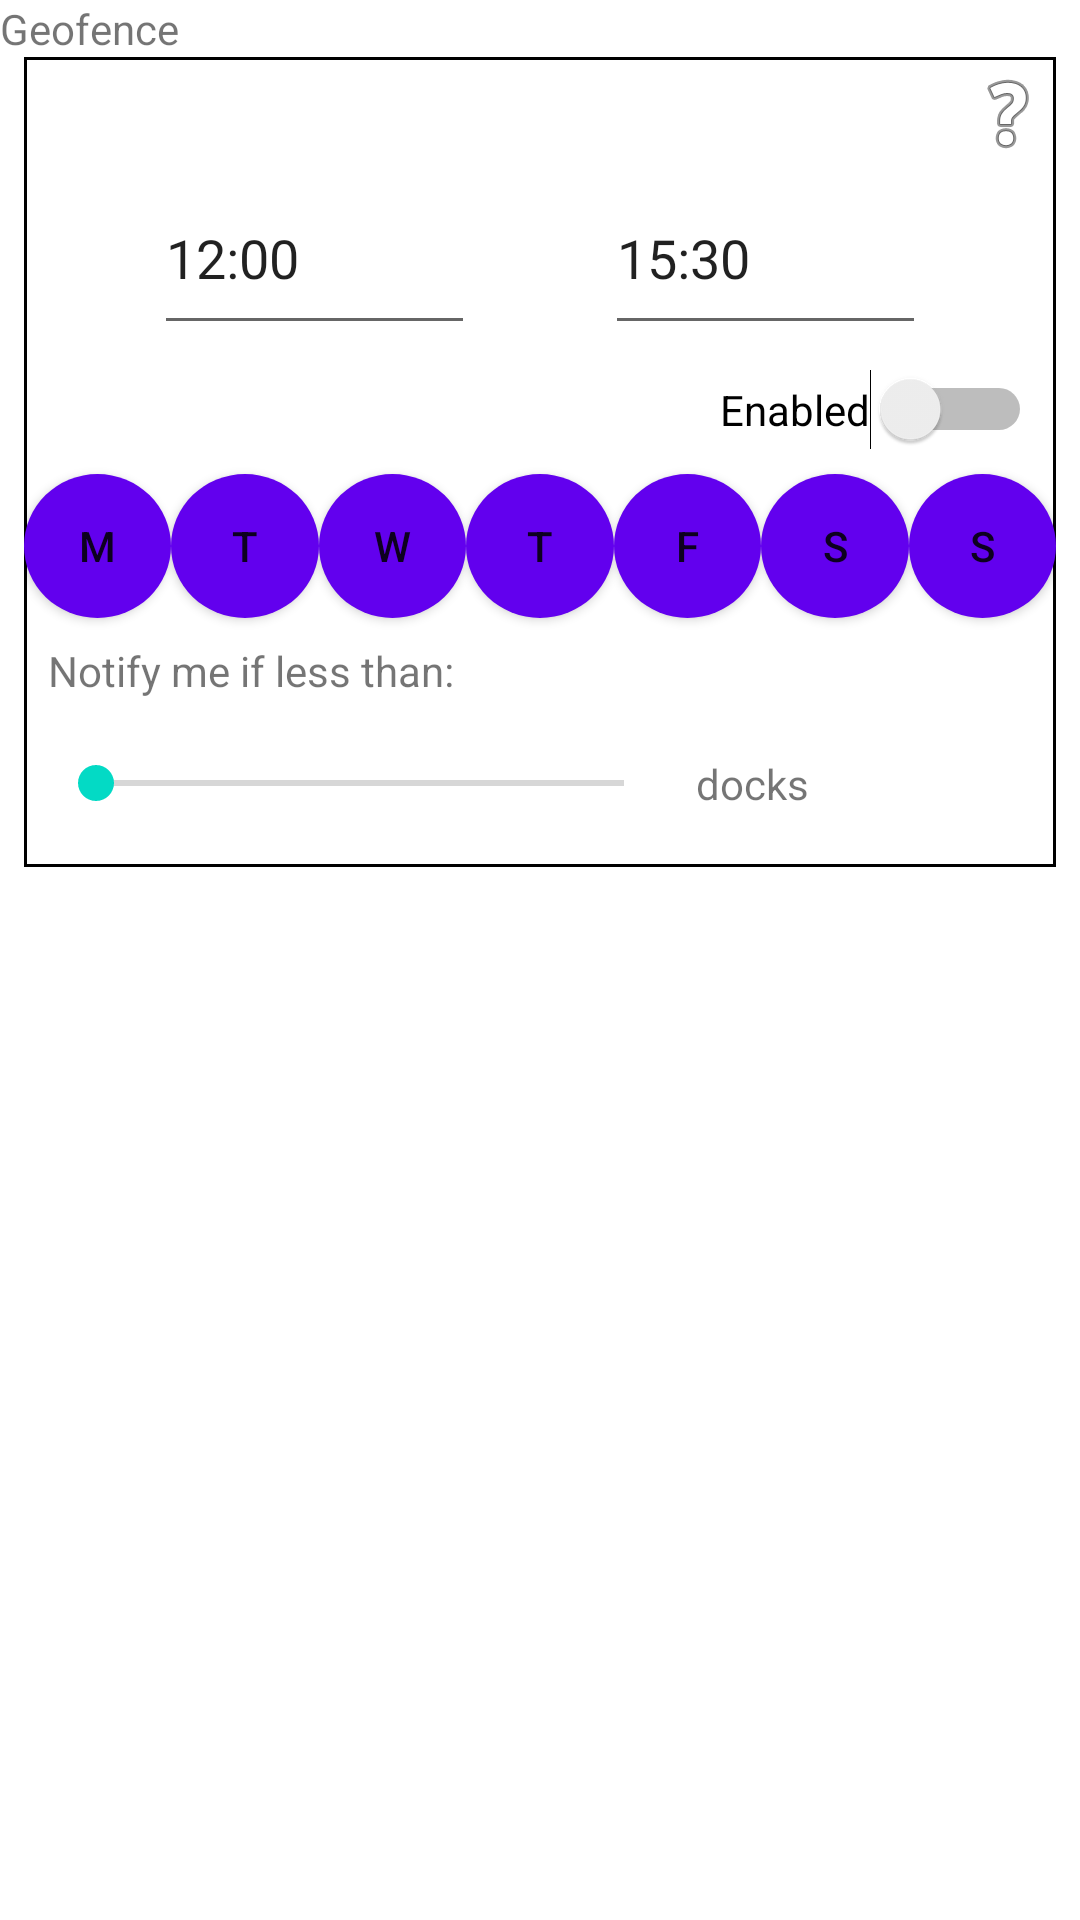

Icon click points for this 1080 × 1920 phone screenshot, format (x,y):
help: (1008,114)
